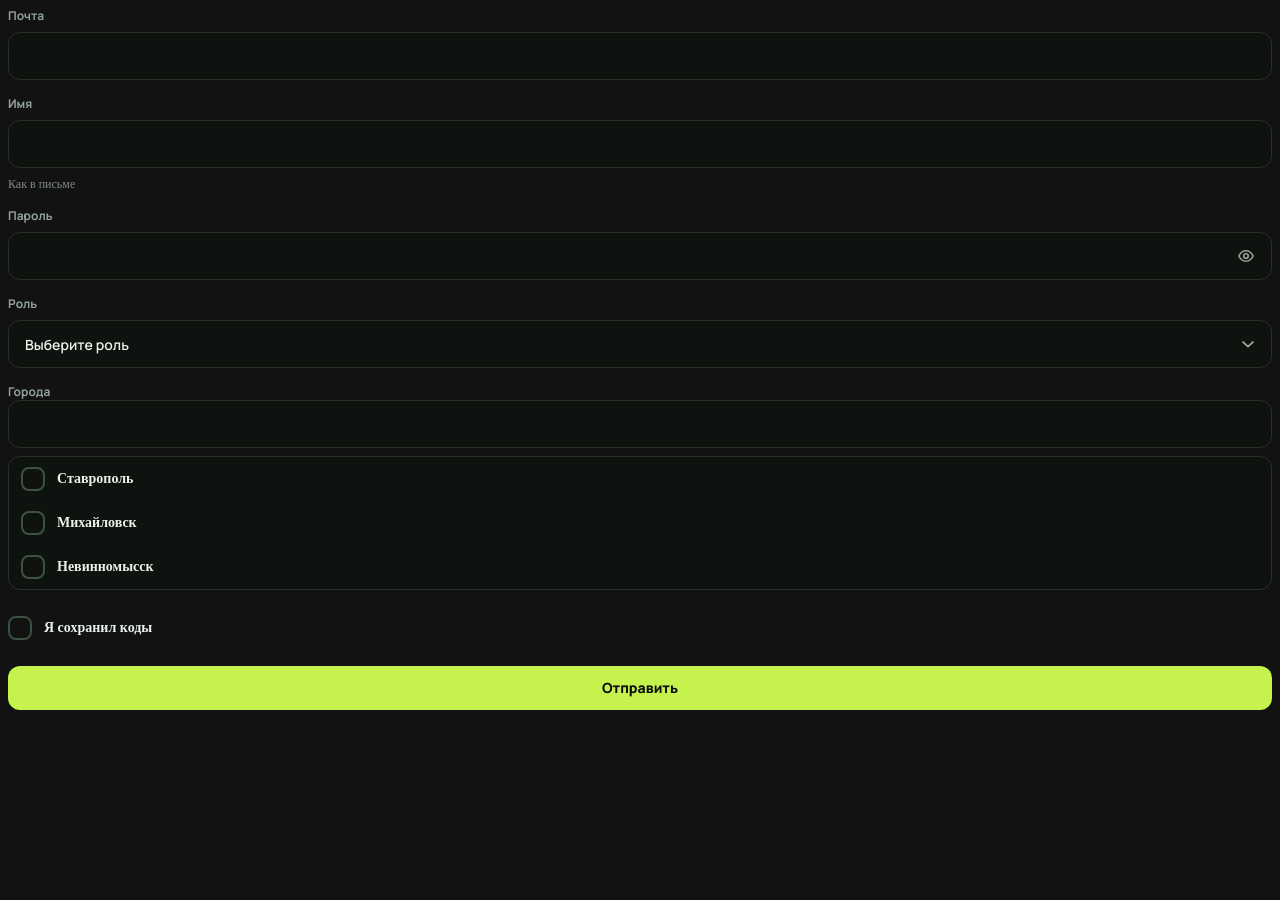
Scenario: Form: ошибки сервера › validation.failed по полю вне формы — общий текст errors.validation.failed
Type "a@b.c" into the field labelled "Почта" at [640, 56], box [8,32,1272,80]
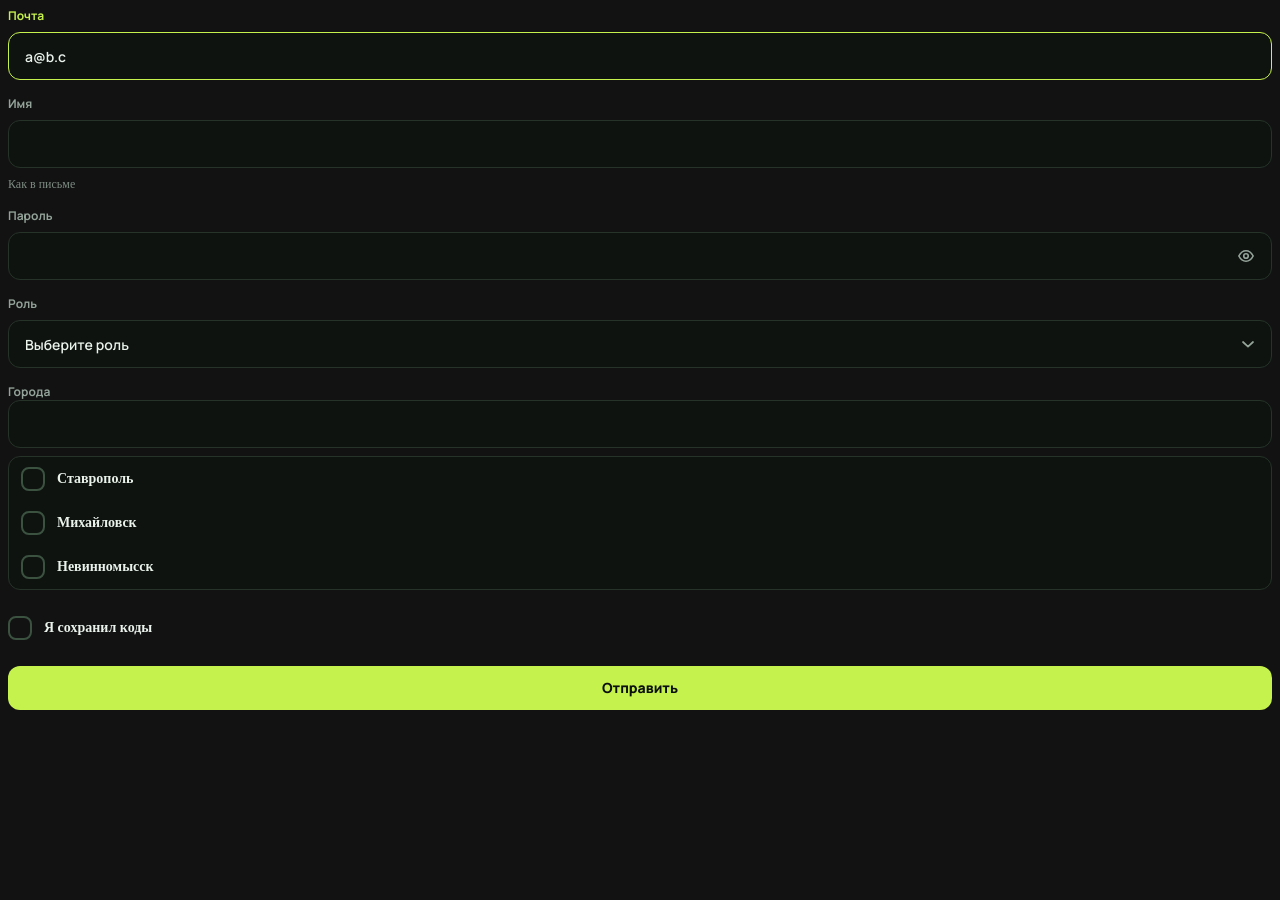
Click the button "Отправить" at [640, 688], box [8,666,1272,710]
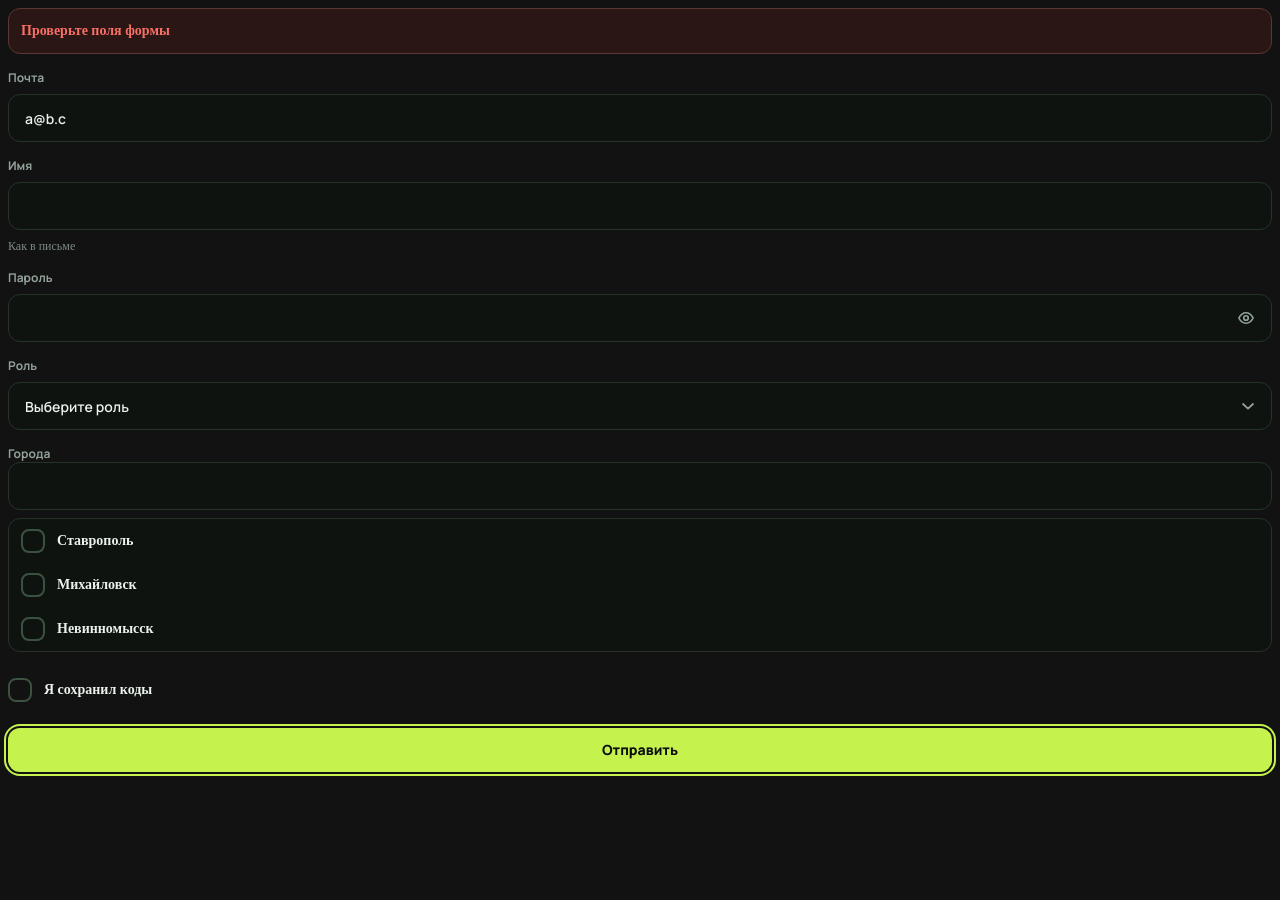
Expected: the message reads "Проверьте поля формы", [21,23,170,38]
